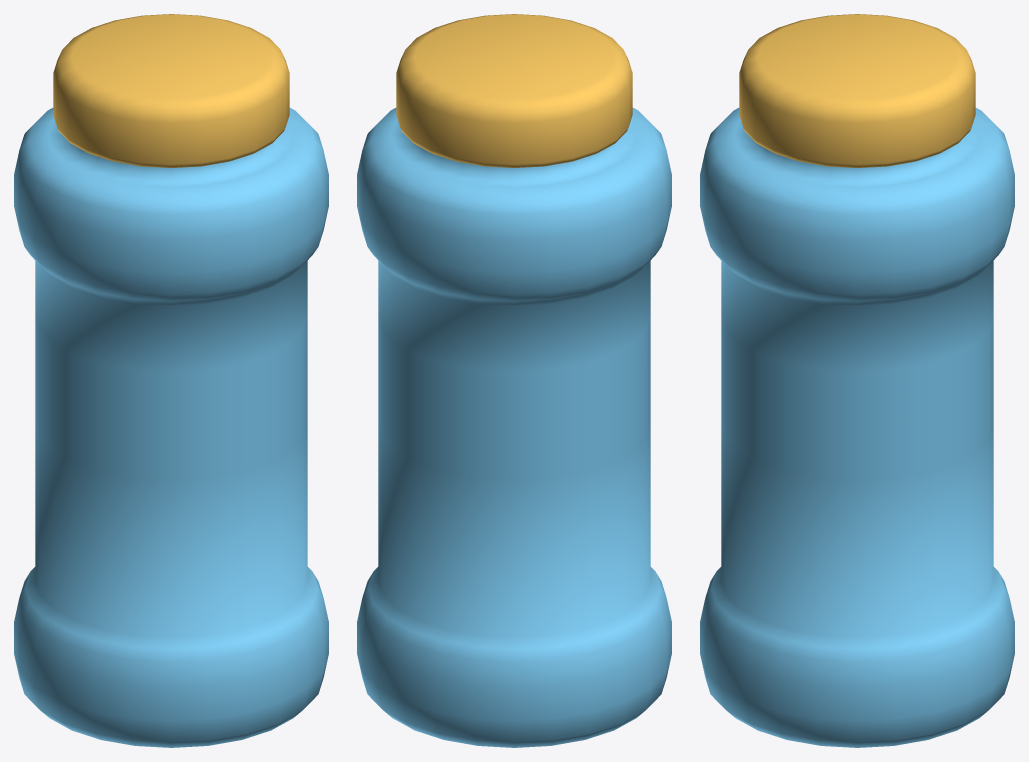
File: Bubble Blower.fbx
3 views of the same model, side by side, from view 1: azimuth 30°, elevation 25°; view 2: azimuth 150°, elevation 25°; view 3: azimuth 270°, elevation 25° (orthographic).
Parts seen in each view (by area): view 1: Circle.005; view 2: Circle.005; view 3: Circle.005.
Boxes of the visible parts, bbox=[...] form: Circle.005: bbox=[14, 14, 328, 747]; Circle.005: bbox=[357, 14, 671, 747]; Circle.005: bbox=[700, 14, 1014, 747].
Size of the model in its own units: 5.85 by 13.04 by 5.85.
Materials: 3 (2 with a texture image).
